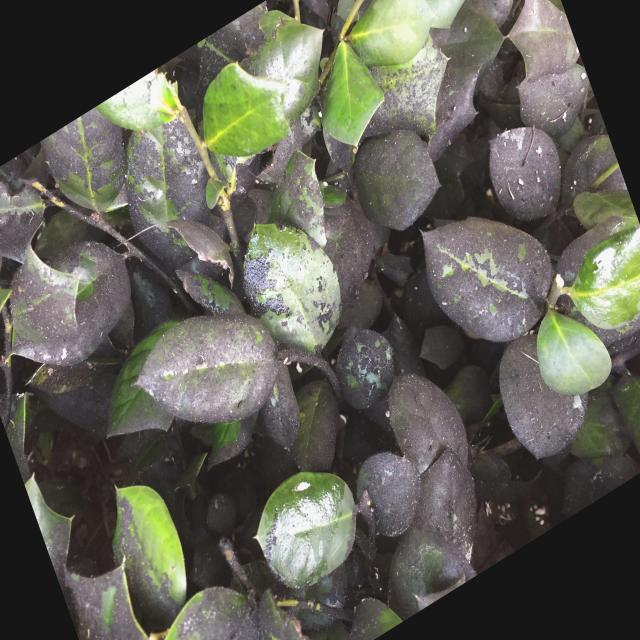Sooty Mold: (2, 1, 637, 638)
